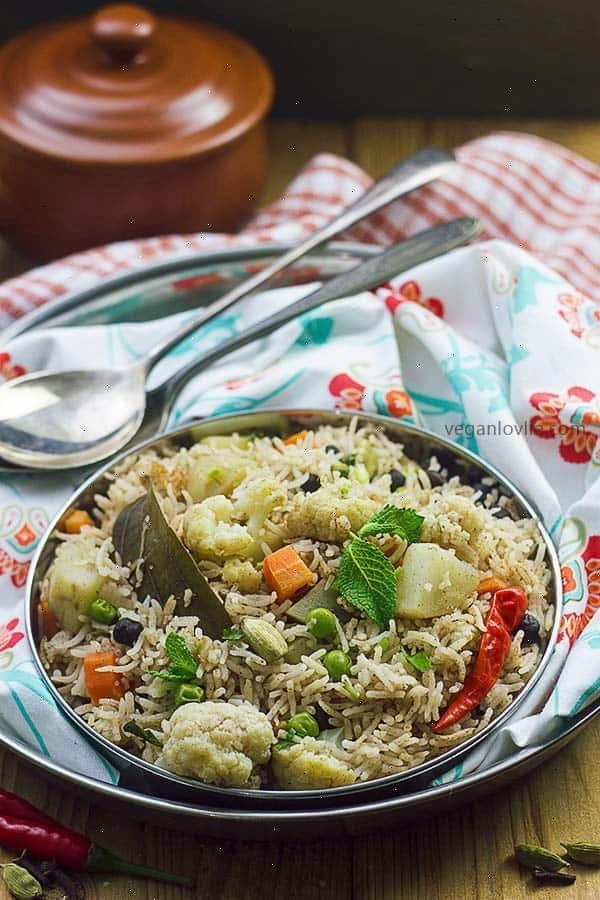veg-pulao: (77, 439, 539, 785)
